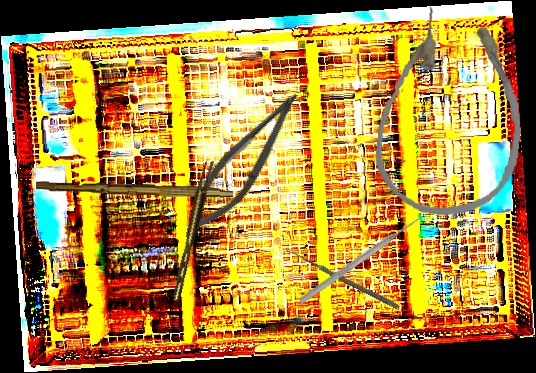Cannula: (369, 0, 535, 225)
Micro Scissor: (179, 78, 309, 243)
Pusher: (297, 212, 426, 306)
Scalpel Handle: (35, 180, 234, 198)
Surgical Spoon: (284, 246, 400, 310)
Tissue Forceps: (165, 158, 219, 303)
